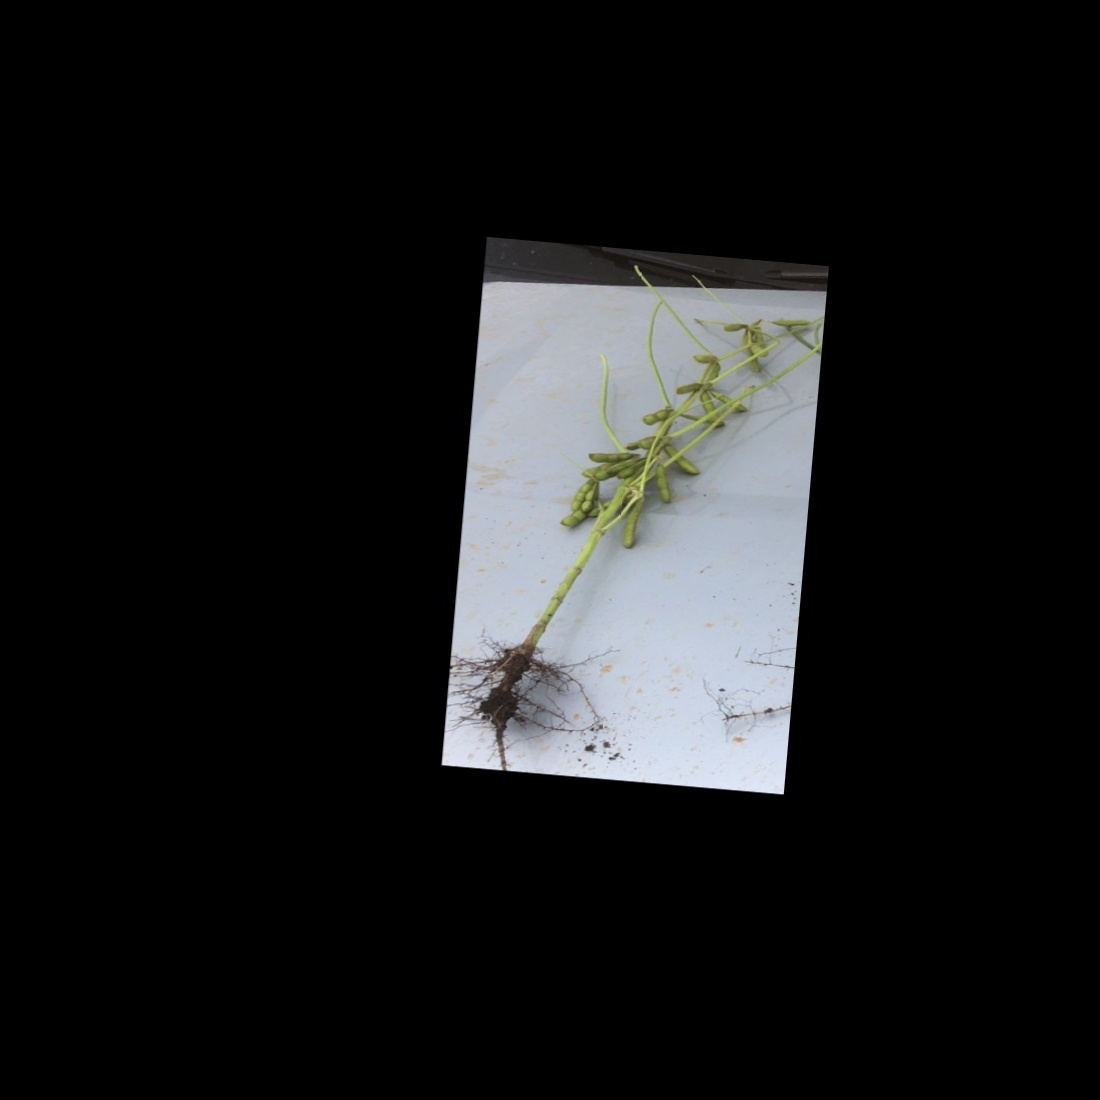pod: (659, 439, 707, 480), (645, 460, 677, 507), (622, 498, 648, 554), (705, 386, 752, 414), (586, 444, 641, 467), (767, 312, 818, 334), (635, 403, 673, 430), (672, 378, 707, 398), (687, 351, 719, 366)
soy: (459, 271, 819, 771)
